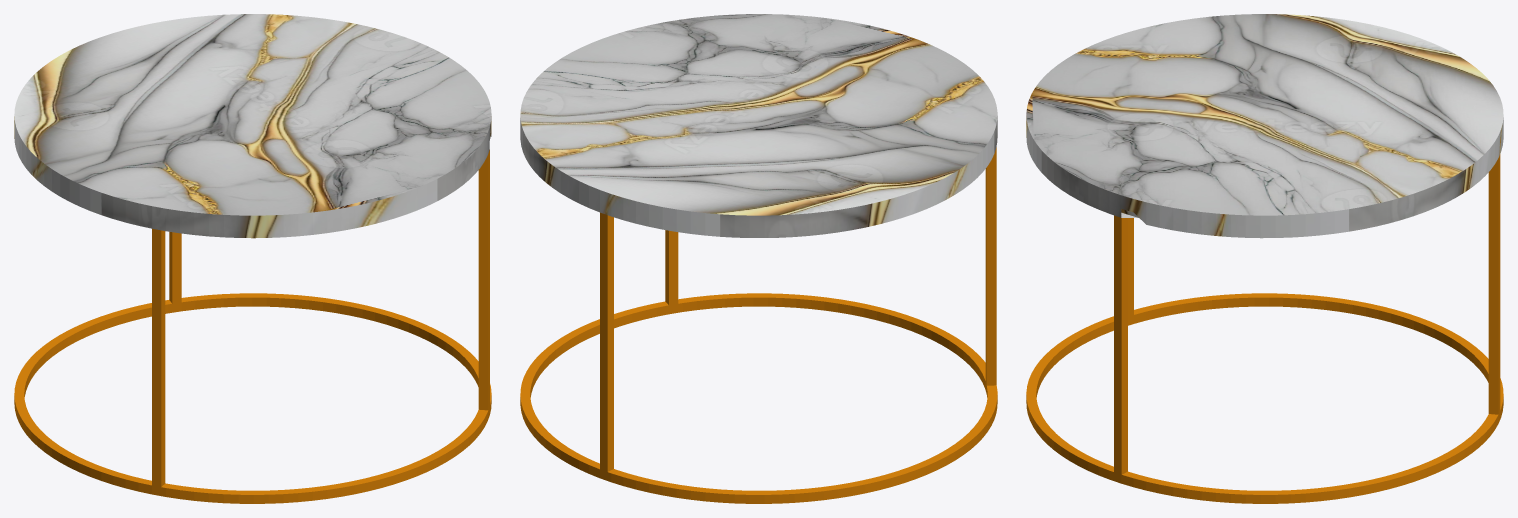
Rendered from Coffee Table.glb.
3 views of the same model, side by side, from view 1: azimuth 30°, elevation 25°; view 2: azimuth 150°, elevation 25°; view 3: azimuth 270°, elevation 25° (orthographic).
Parts seen in each view (by area): view 1: Coffee Table.001, Coffee Table; view 2: Coffee Table.001, Coffee Table; view 3: Coffee Table.001, Coffee Table.
Part boxes in pixels (x1,y1,x2,y2): Coffee Table.001: (14,14,491,238); Coffee Table: (14,150,491,503); Coffee Table.001: (520,14,997,237); Coffee Table: (520,147,997,503); Coffee Table.001: (1026,14,1503,238); Coffee Table: (1026,154,1503,503).
Size of the model in its own units: 0.7742 by 0.5162 by 0.7742.
2 materials, 1 textured.
